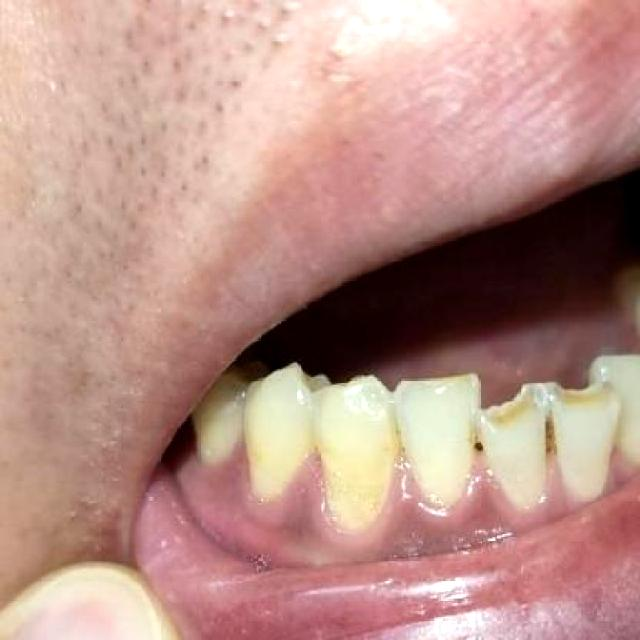Plaque: (530, 404, 570, 459), (464, 419, 506, 459)
